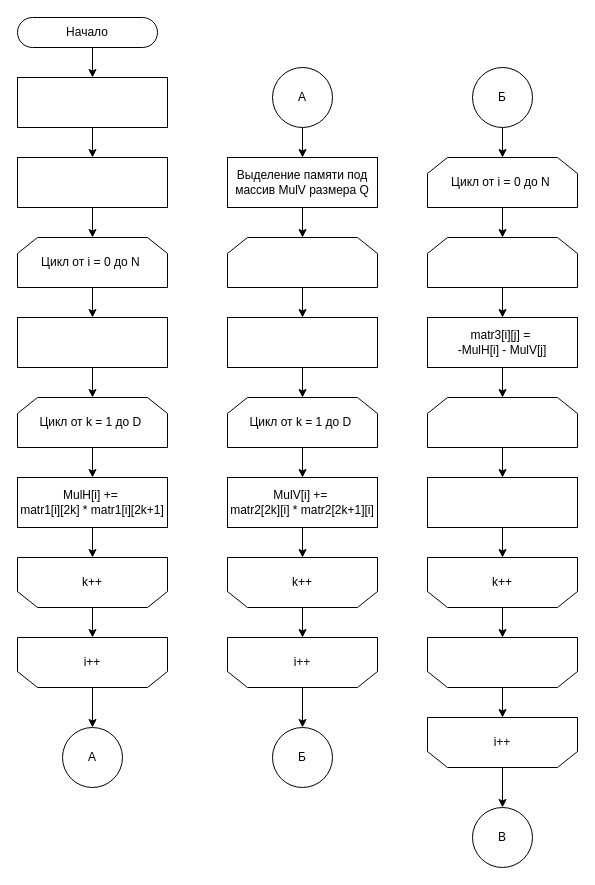
Image size: 595x885. Some labels were removed from this diagram. Here are the shapes that lost their labels. From the top down, the centre of each, then its label:
At point (92, 102): "D = M / 2".
At point (92, 182): "Выделение памяти под массив MulH размера N".
At point (302, 262): "Цикл от i = 0 до Q".
At point (502, 262): "Цикл от j = 0 до Q".
At point (92, 342): "MulH[i] = matr1[i][0] * matr1[i][1]".
At point (302, 342): "MulV[i] = matr2[0][i] * matr2[1][i]".
At point (502, 422): "Цикл от k = 0 до D".
At point (502, 502): "matr3[i][j] += (matr1[i][2k+1] + matr2[2k][j]) * (matr1[i][2k] + matr2[2k+1][j])".
At point (502, 662): "j++".
